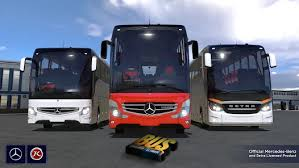bus: (99, 23, 199, 136), (20, 47, 112, 133), (187, 43, 277, 129)
